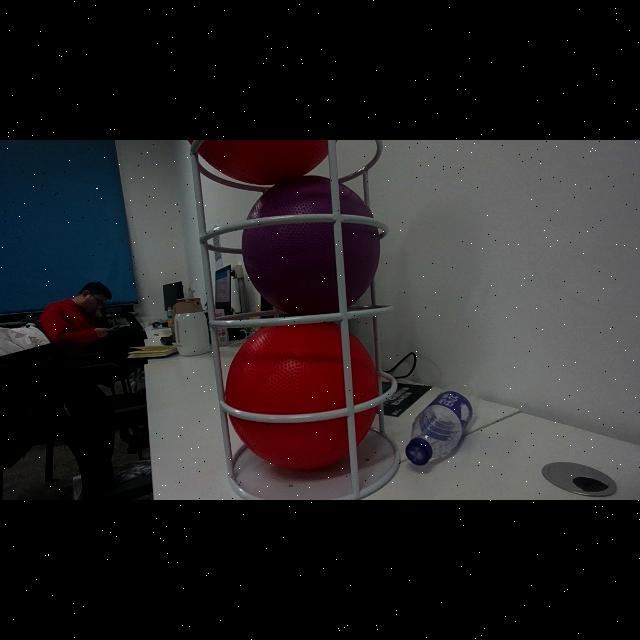P: (240, 173, 378, 311)
R: (224, 318, 378, 470), (198, 140, 338, 182)
S: (185, 140, 402, 500)
